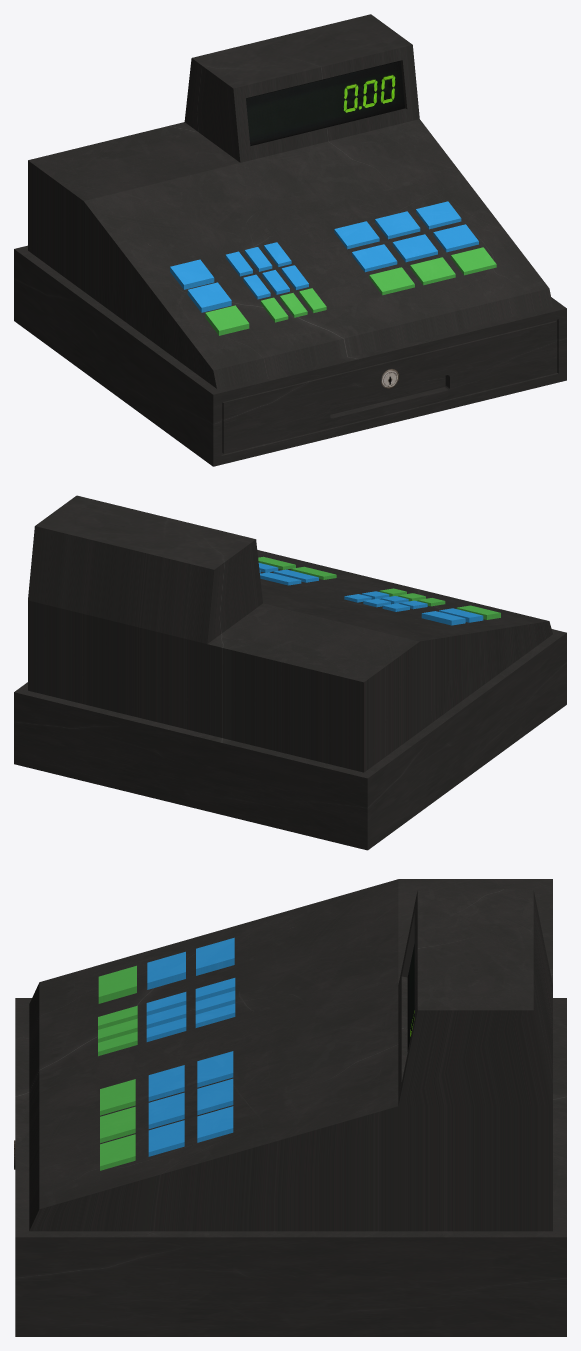
File: caixa_registradora_atual.glb
3 renders of one model, top to bottom at view 1: azimuth 30°, elevation 25°; view 2: azimuth 150°, elevation 25°; view 3: azimuth 270°, elevation 25°, orthographic. The views are drawn at different scales.
Visible parts, largest first — view 1: Caixa_Registradora; view 2: Caixa_Registradora; view 3: Caixa_Registradora.
Boxes of the visible parts, x1=… form: Caixa_Registradora: x1=14, y1=14, x2=566, y2=466; Caixa_Registradora: x1=14, y1=495, x2=566, y2=850; Caixa_Registradora: x1=14, y1=879, x2=566, y2=1336.
Size of the model in its own units: 0.3242 by 0.2027 by 0.317.
4 materials, 4 textured.
